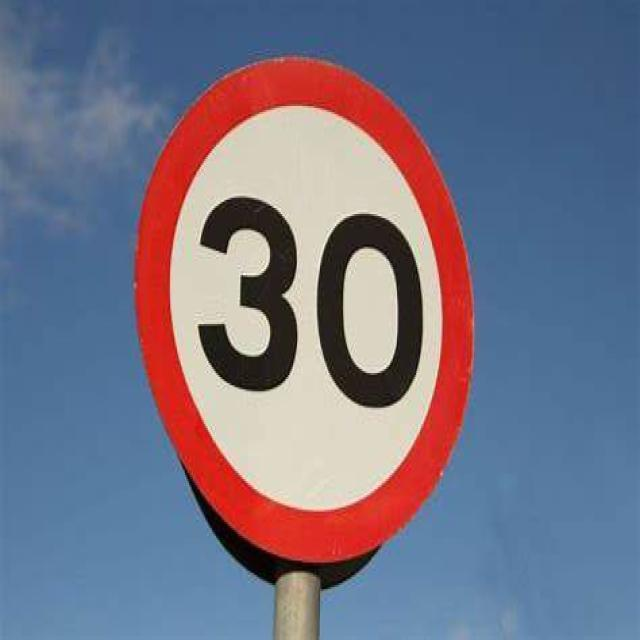speed limit 30: (126, 50, 476, 561)
